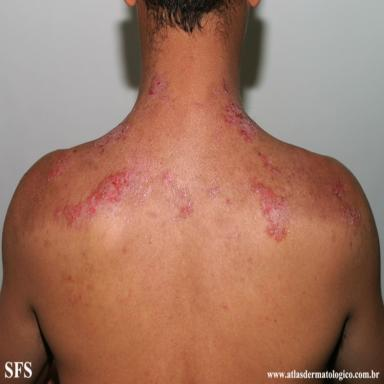Hailey-Hailey-Disease: (55, 169, 134, 224), (251, 182, 289, 241), (224, 99, 259, 141), (95, 120, 131, 147), (48, 154, 68, 180), (340, 202, 361, 225), (258, 153, 281, 174), (149, 76, 167, 97), (331, 183, 346, 200), (180, 201, 192, 217), (163, 170, 175, 186), (222, 80, 229, 95)
